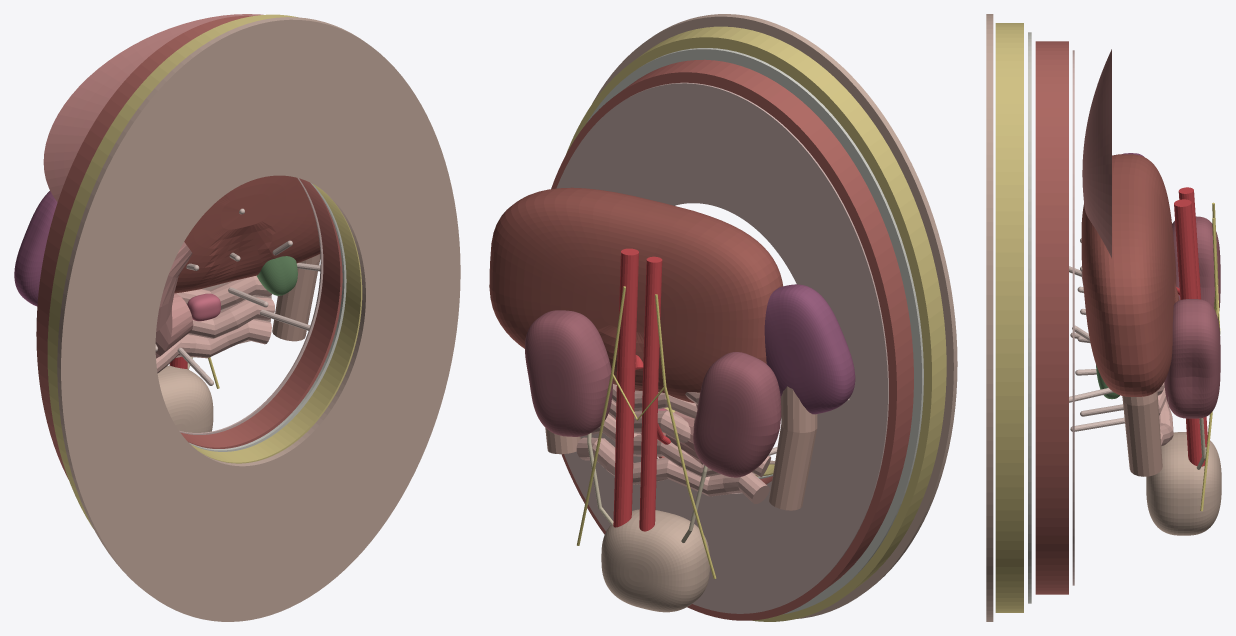
Rendered from dranmar_patient_end_expiration.glb.
The picture shows the model from 3 angles, left to right: view 1: azimuth 30°, elevation 25°; view 2: azimuth 150°, elevation 25°; view 3: azimuth 270°, elevation 25°; orthographic projection. The views are drawn at different scales.
Parts seen in each view (by area): view 1: skin, abdominal_wall, subcutaneous_fat, liver, diaphragm, small_bowel, bladder, spleen, stomach, colon, fascia, adhesions (+3 smaller); view 2: peritoneum, liver, abdominal_wall, subcutaneous_fat, skin, major_vessels, right_kidney, fascia, left_kidney, spleen, bladder, small_bowel (+3 smaller); view 3: abdominal_wall, liver, subcutaneous_fat, right_kidney, bladder, skin, diaphragm, major_vessels, colon, fascia, left_kidney, peritoneum (+3 smaller).
Boxes of the visible parts, x1=… form: skin: x1=57, y1=17, x2=460, y2=621; abdominal_wall: x1=36, y1=15, x2=342, y2=479; subcutaneous_fat: x1=47, y1=14, x2=362, y2=528; liver: x1=174, y1=175, x2=320, y2=293; diaphragm: x1=43, y1=14, x2=263, y2=201; small_bowel: x1=156, y1=275, x2=274, y2=373; bladder: x1=157, y1=365, x2=213, y2=432; spleen: x1=14, y1=191, x2=57, y2=306; stomach: x1=155, y1=242, x2=193, y2=358; colon: x1=272, y1=254, x2=320, y2=341; fascia: x1=189, y1=183, x2=346, y2=451; adhesions: x1=155, y1=208, x2=320, y2=385; peritoneum: x1=556, y1=82, x2=888, y2=613; liver: x1=489, y1=187, x2=782, y2=402; abdominal_wall: x1=551, y1=59, x2=913, y2=620; subcutaneous_fat: x1=566, y1=26, x2=946, y2=621; skin: x1=592, y1=14, x2=957, y2=618; major_vessels: x1=613, y1=248, x2=670, y2=531; right_kidney: x1=525, y1=310, x2=612, y2=436; fascia: x1=587, y1=48, x2=923, y2=614; left_kidney: x1=693, y1=352, x2=781, y2=477; spleen: x1=764, y1=284, x2=855, y2=414; bladder: x1=601, y1=509, x2=709, y2=612; small_bowel: x1=576, y1=384, x2=770, y2=503; abdominal_wall: x1=1035, y1=41, x2=1068, y2=594; liver: x1=1081, y1=154, x2=1179, y2=396; subcutaneous_fat: x1=995, y1=23, x2=1023, y2=612; right_kidney: x1=1164, y1=299, x2=1220, y2=418; bladder: x1=1146, y1=432, x2=1221, y2=535; skin: x1=986, y1=14, x2=993, y2=621; diaphragm: x1=1082, y1=49, x2=1111, y2=258; major_vessels: x1=1174, y1=187, x2=1207, y2=466; colon: x1=1122, y1=391, x2=1162, y2=476; fascia: x1=1028, y1=32, x2=1031, y2=603; left_kidney: x1=1172, y1=216, x2=1220, y2=310; peritoneum: x1=1072, y1=50, x2=1074, y2=585.
Size of the model in its own units: 0.38 by 0.54 by 0.1995.
